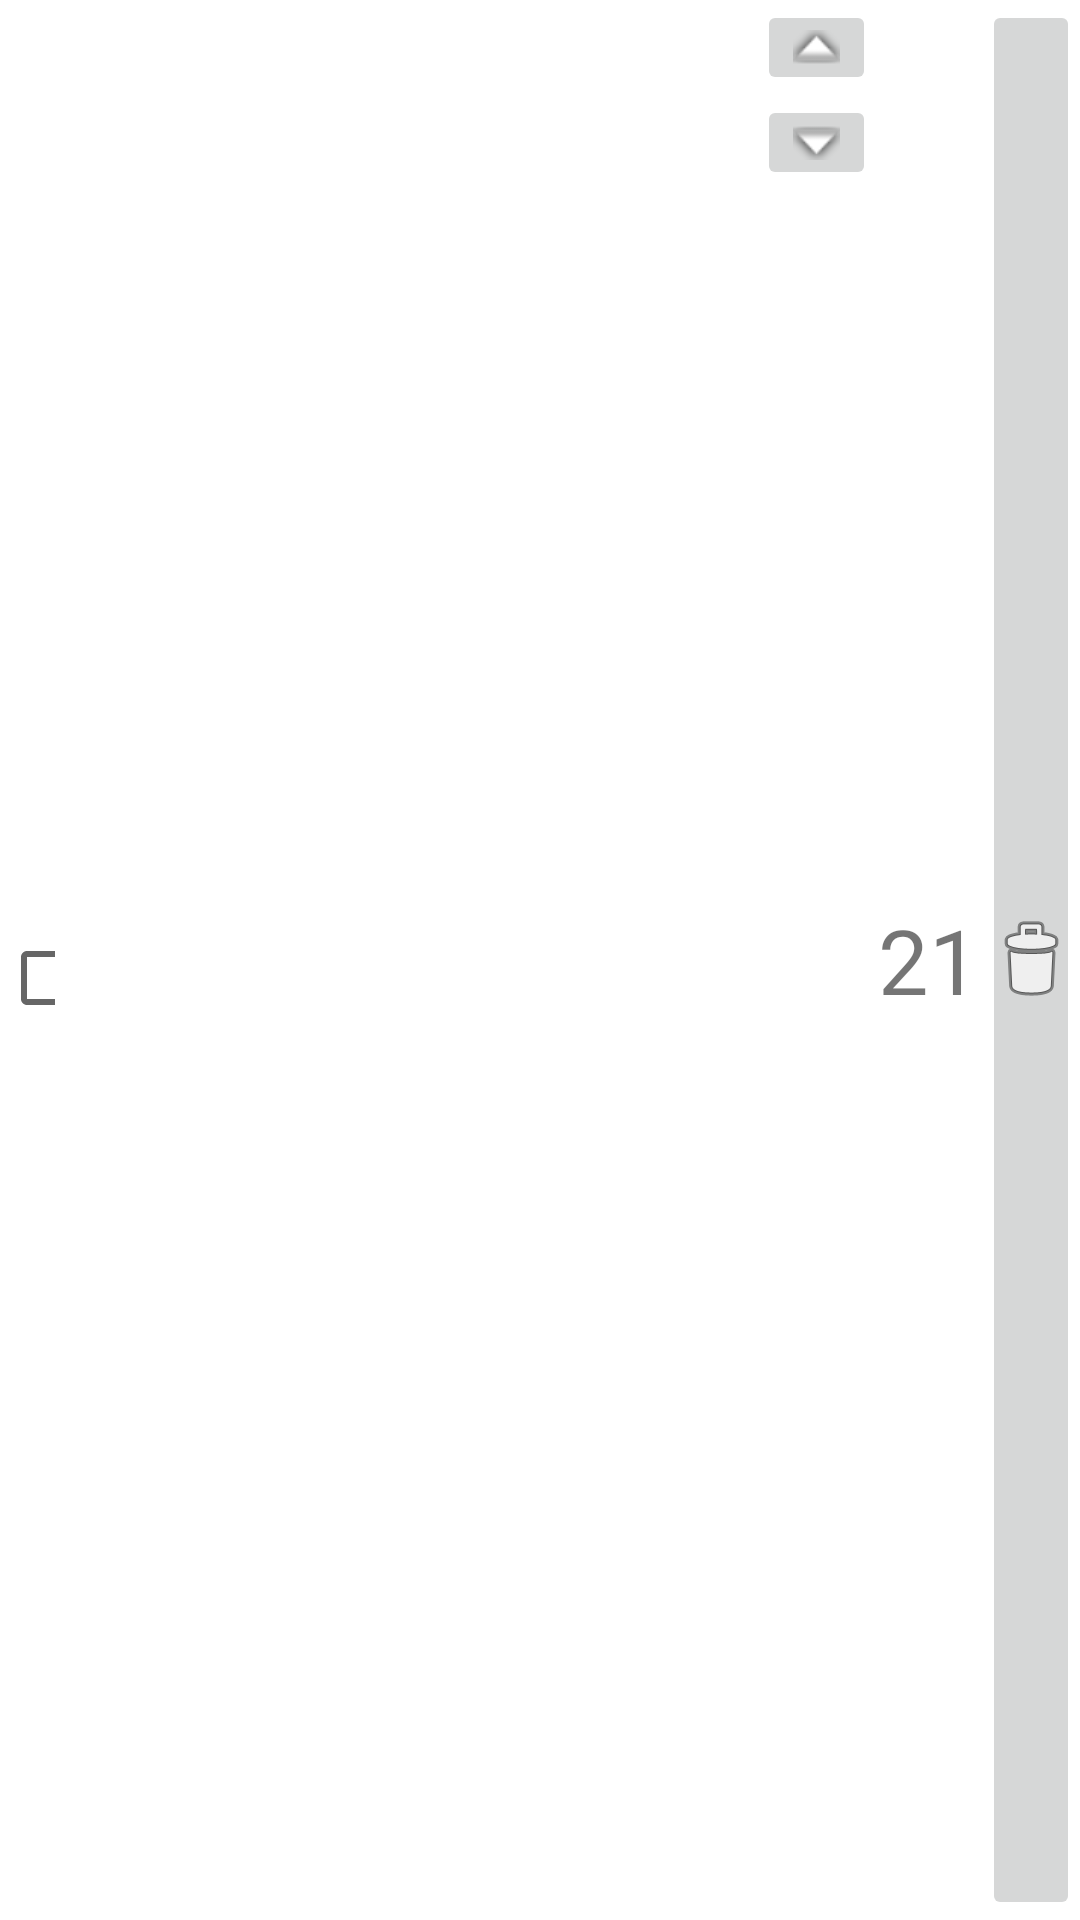

Where to tap for icons on this 1080px×1920px app screen, as [x,y]:
arrow down float: [816,142]
arrow up float: [816,47]
